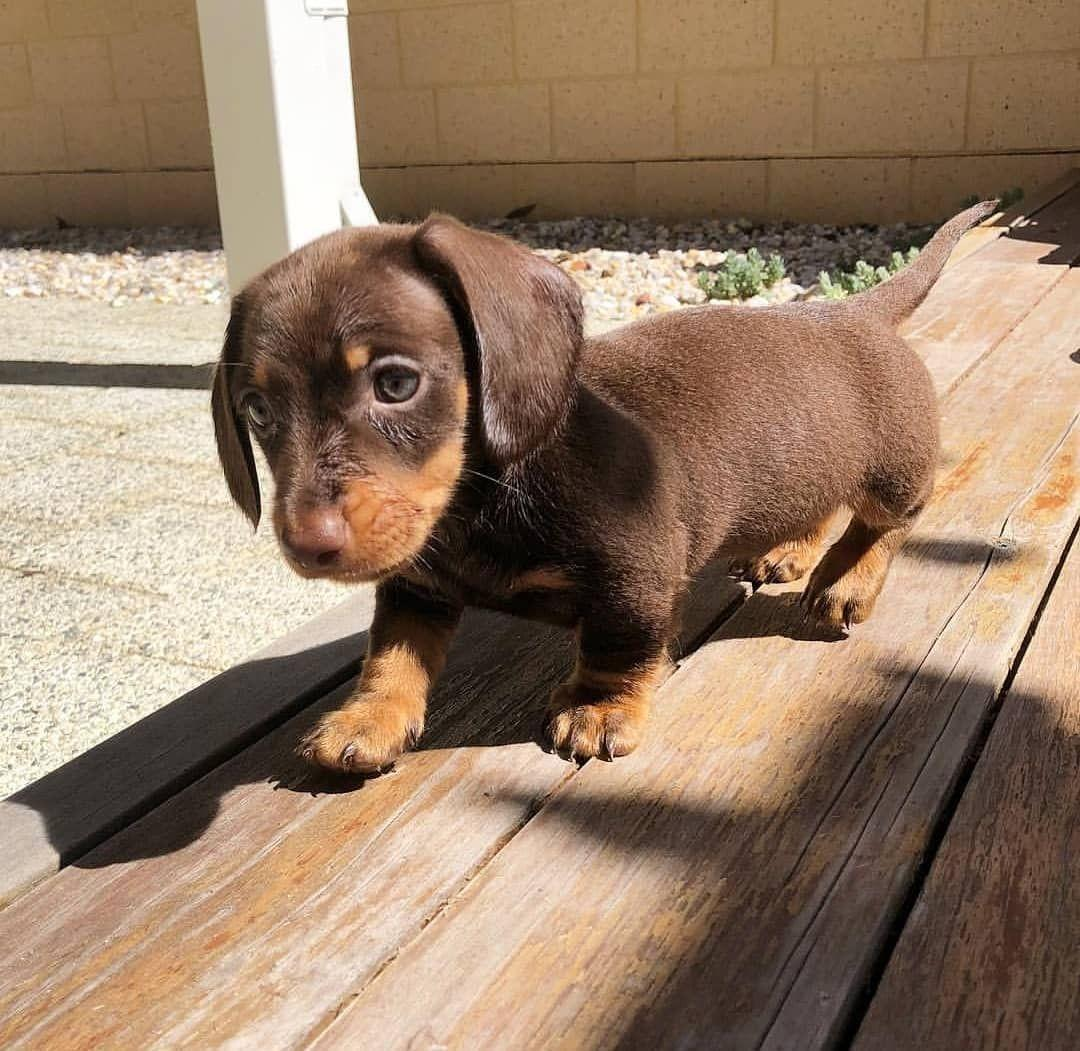dog: (212, 203, 992, 771)
